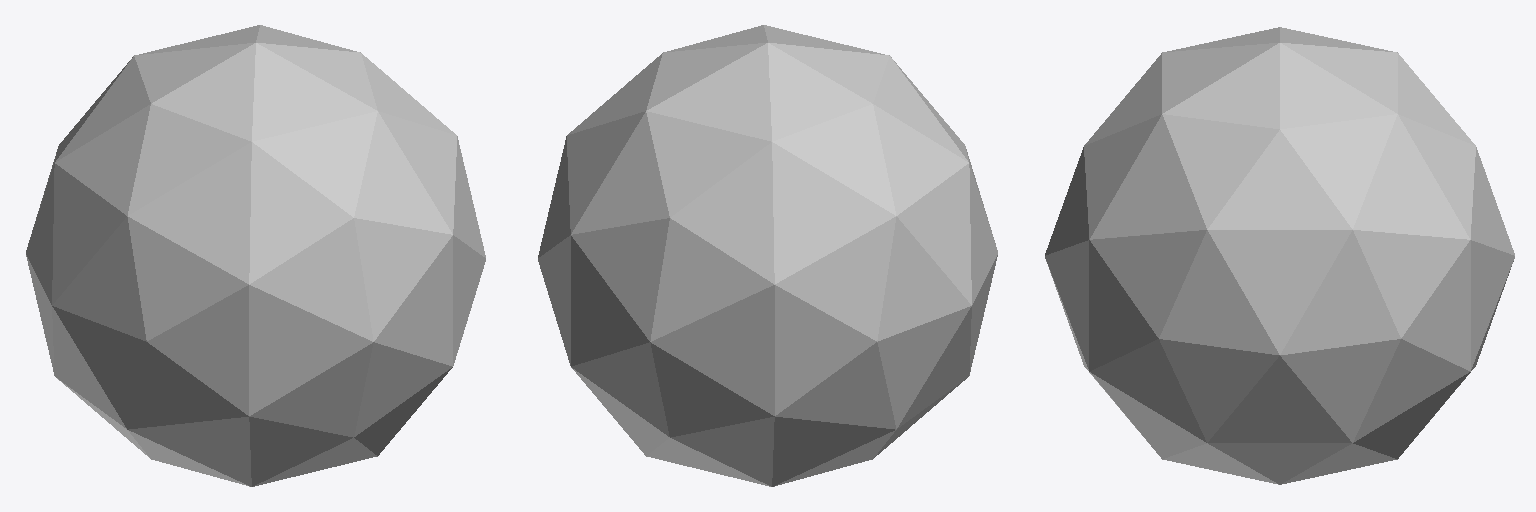
Rendered from pentakisIcosadodecahedron.obj.
3 views of the same model, side by side, from view 1: azimuth 30°, elevation 25°; view 2: azimuth 150°, elevation 25°; view 3: azimuth 270°, elevation 25° (orthographic).
Visible parts, largest first — view 1: Imported; view 2: Imported; view 3: Imported.
Boxes of the visible parts, x1=… form: Imported: x1=26, y1=25, x2=485, y2=486; Imported: x1=538, y1=25, x2=997, y2=486; Imported: x1=1045, y1=27, x2=1514, y2=484.
Size of the model in its own units: 2.1 by 2.1 by 2.1.